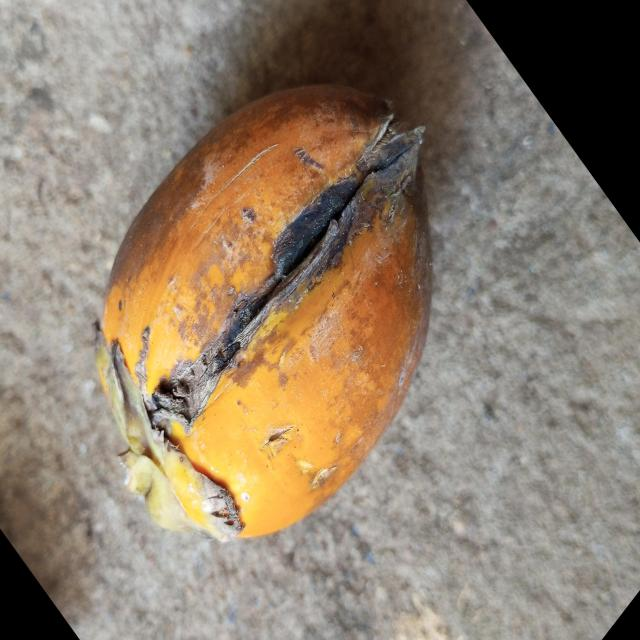damaged: (96, 85, 431, 540)
